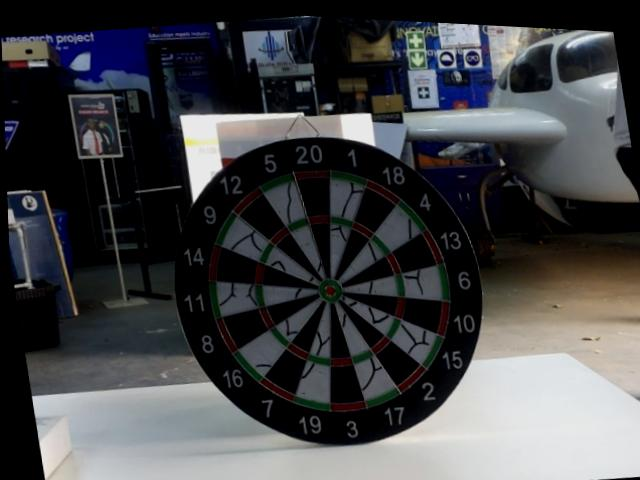bullseye: (321, 281, 342, 301)
